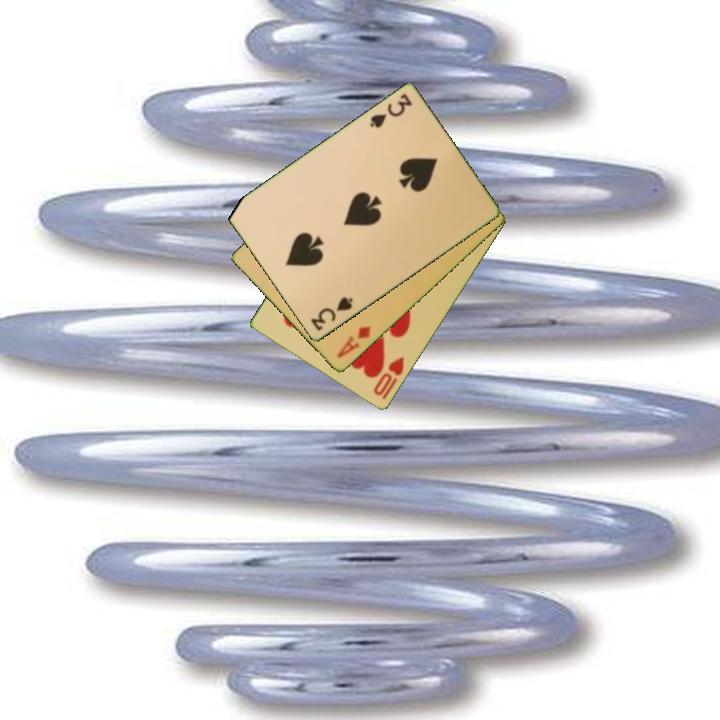10h: (370, 353, 407, 403)
3s: (307, 293, 356, 334), (366, 90, 415, 131)
Ad: (334, 323, 374, 362)
